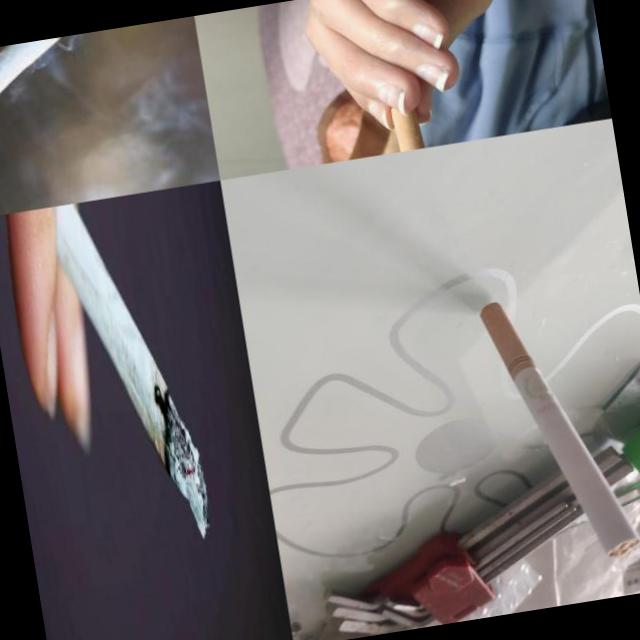cigarette: (27, 190, 216, 562), (477, 286, 640, 573), (0, 32, 115, 180)
